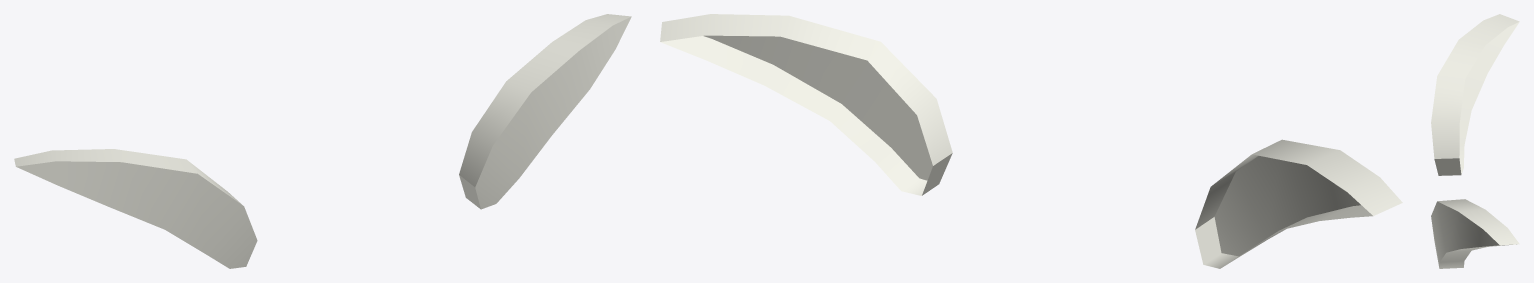
The model's file is Brow_White_2.fbx.
3 views of the same model, side by side, from view 1: azimuth 30°, elevation 25°; view 2: azimuth 150°, elevation 25°; view 3: azimuth 270°, elevation 25° (orthographic). The views are drawn at different scales.
Parts seen in each view (by area): view 1: Brow_White_2; view 2: Brow_White_2; view 3: Brow_White_2.
Part boxes in pixels (x1,y1,x2,y2): Brow_White_2: (14, 14, 631, 268); Brow_White_2: (660, 14, 1402, 268); Brow_White_2: (1431, 14, 1519, 268).
Bounding box in the file's own units: 27.94 × 5.35 × 4.54.
